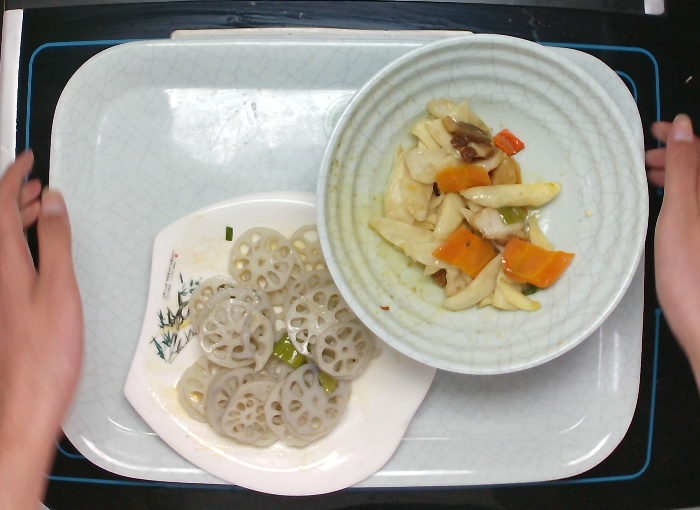JYsf-Da_Tang_Wan: (312, 29, 654, 378)
JYsf-Mian_Pan: (119, 181, 448, 500)
